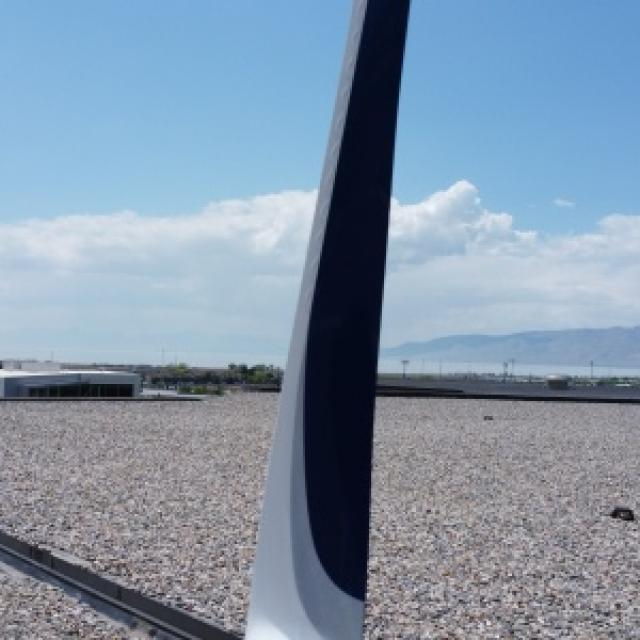healthy: (395, 0, 638, 228)
